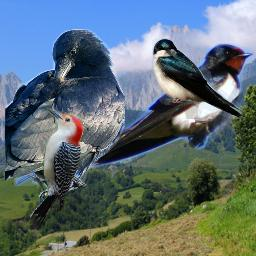Crow: (5, 29, 125, 204)
Swallow: (12, 43, 254, 186), (152, 38, 243, 119)
Woodpecker: (27, 107, 83, 228)
